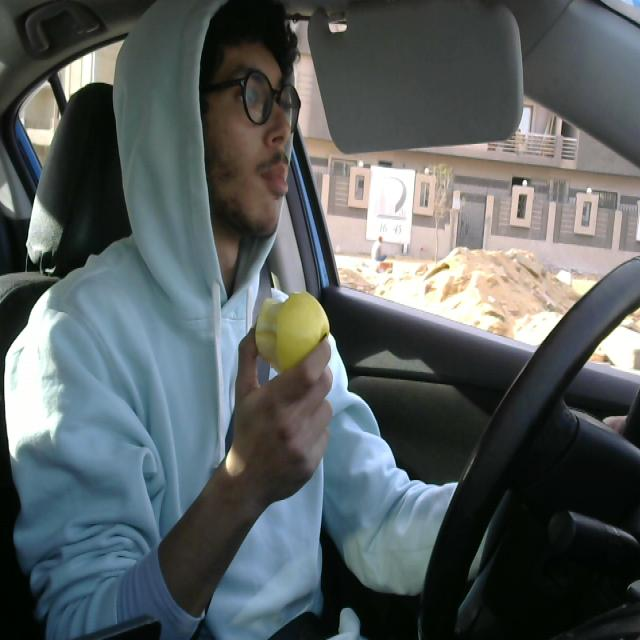eating: (247, 274, 333, 378)
